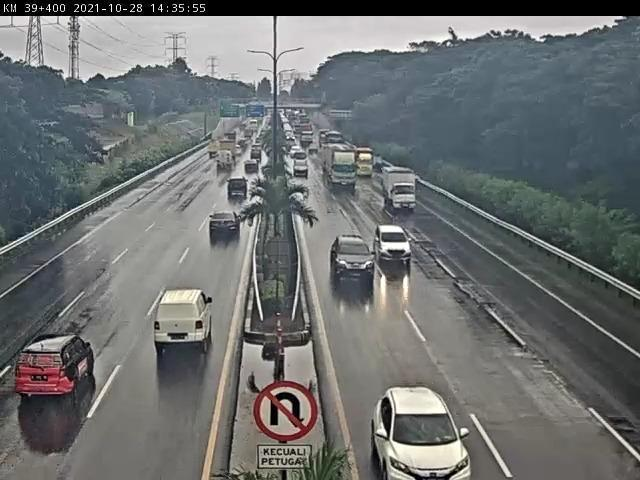car: (373, 371, 477, 480), (14, 330, 98, 408), (149, 288, 215, 352), (326, 241, 378, 290), (371, 222, 415, 272), (380, 172, 422, 207), (210, 206, 241, 240), (294, 154, 313, 184), (229, 176, 247, 199), (247, 161, 260, 174)
truck: (327, 151, 361, 191), (359, 152, 375, 179), (220, 152, 238, 171), (224, 139, 235, 153)
